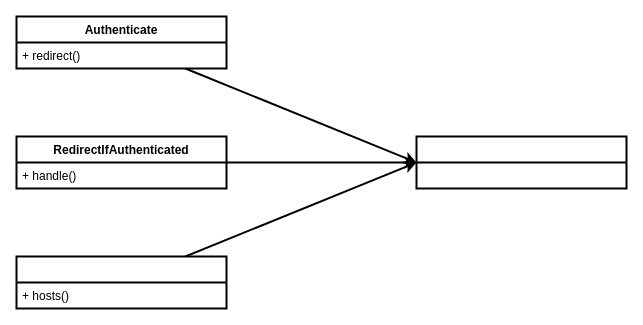
Image size: 643x325. Some labels were removed from this diagram. Here are the shapes that lost their labels. From the top down, the box of each, then its label:
(415, 135, 627, 189): Middleware
(15, 255, 227, 309): TrustHosts
